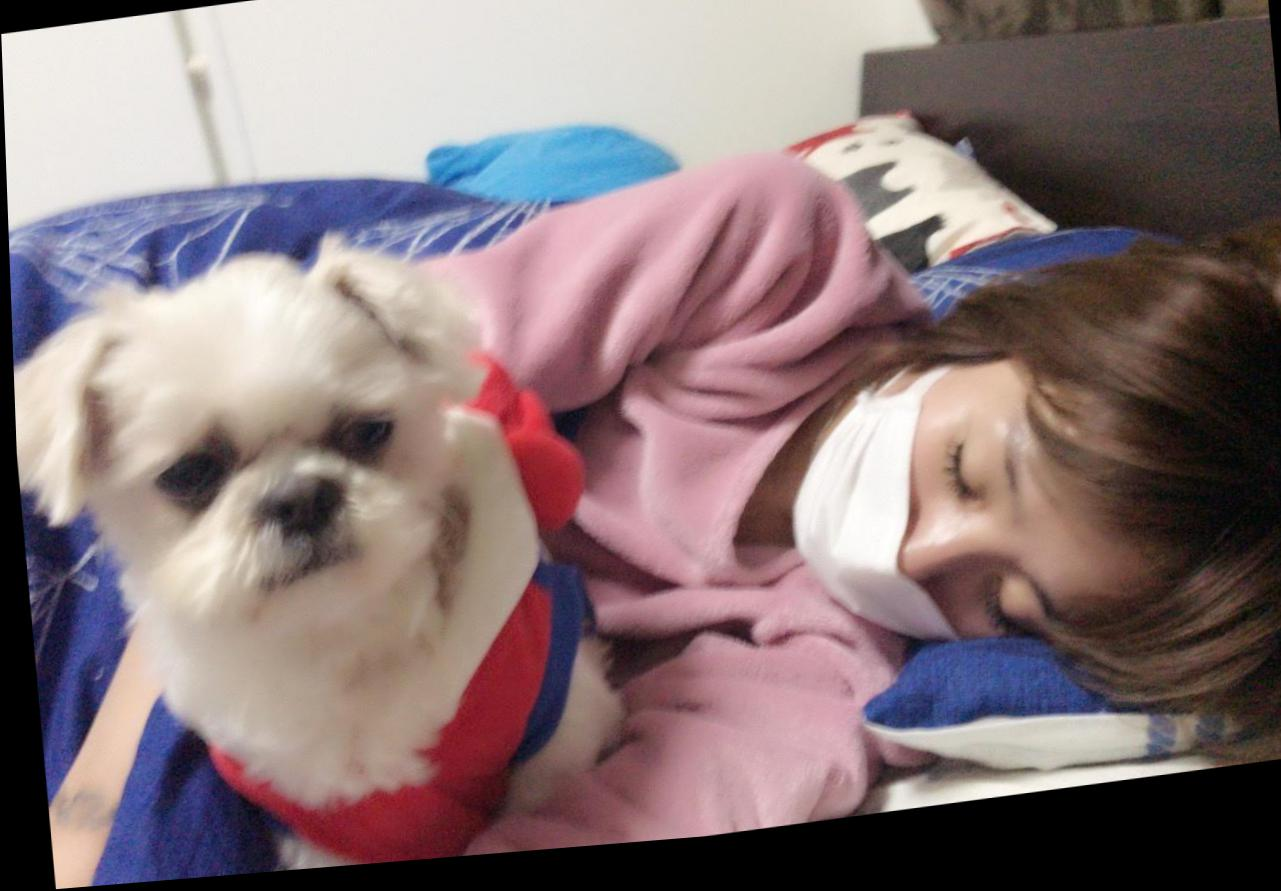WRONG: (777, 362, 1110, 707)
